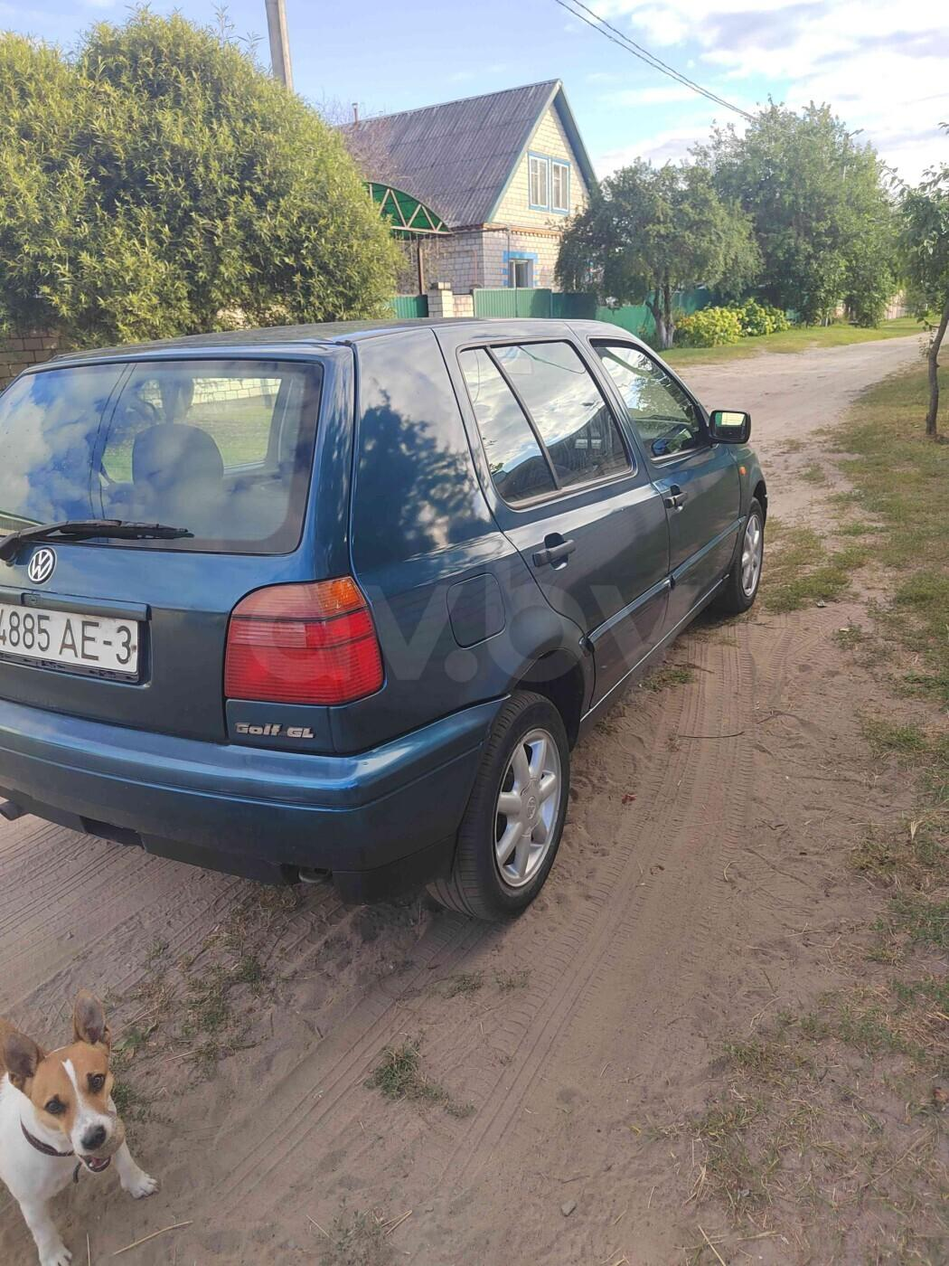Golf_1991-2000: (0, 317, 775, 922)
